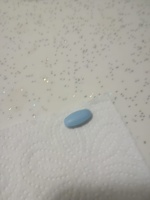Apranax: (62, 108, 94, 129)
